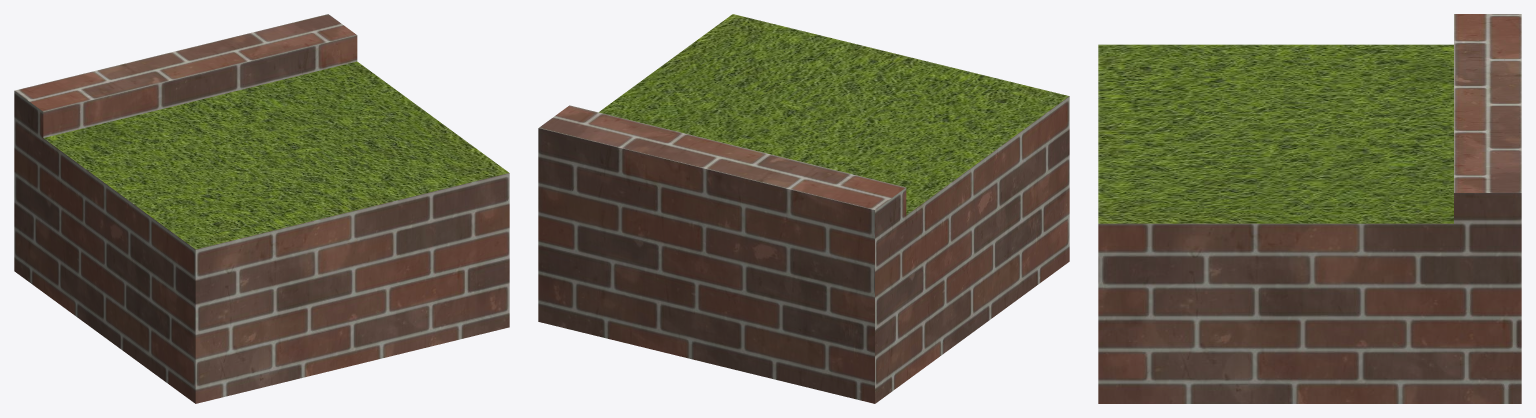
The model's file is grass_edge_halfHalf.dae.
3 views of the same model, side by side, from view 1: azimuth 30°, elevation 25°; view 2: azimuth 150°, elevation 25°; view 3: azimuth 270°, elevation 25° (orthographic). The views are drawn at different scales.
Visible parts, largest first — view 1: group_0 (×2); view 2: group_0 (×2); view 3: group_0 (×2).
Part boxes in pixels (bbox=[...]): group_0 (×2): bbox=[14, 14, 509, 403]; group_0 (×2): bbox=[538, 14, 1069, 403]; group_0 (×2): bbox=[1098, 14, 1521, 403].
Bounding box in the file's own units: 19.69 × 19.69 × 10.83.
Materials: 2 (2 with a texture image).
